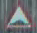Speed Breaker ahead: (1, 3, 35, 29)
